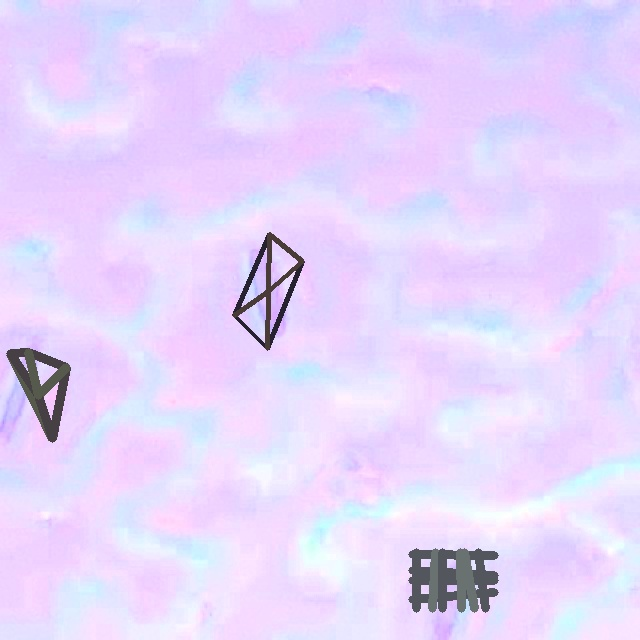open: (232, 233, 303, 349), (7, 349, 70, 441), (409, 549, 497, 611)
